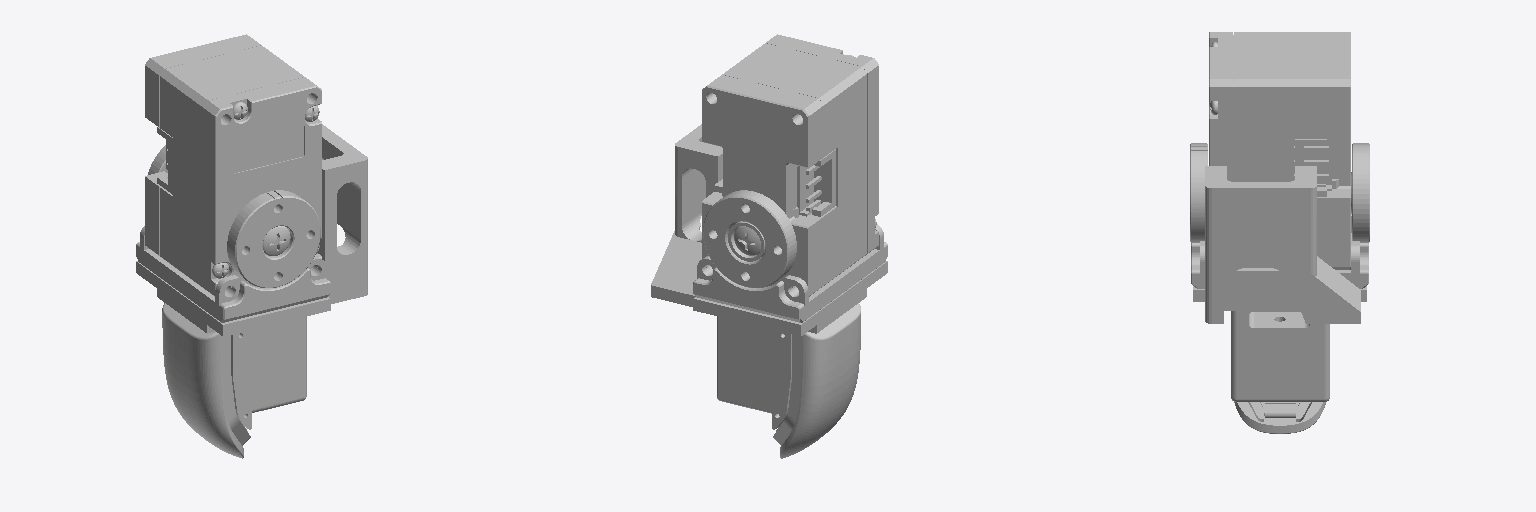
Rendered from thumb_fingertip_paxini.obj.
The picture shows the model from 3 angles: view 1: azimuth 30°, elevation 25°; view 2: azimuth 150°, elevation 25°; view 3: azimuth 270°, elevation 25°; orthographic projection.
Visible parts, largest first — view 1: thumb_new_zhijian; view 2: thumb_new_zhijian; view 3: thumb_new_zhijian.
Boxes of the visible parts, box(x1,y1,x2,y2) form: thumb_new_zhijian: box(136, 34, 367, 458); thumb_new_zhijian: box(651, 34, 887, 458); thumb_new_zhijian: box(1190, 32, 1369, 433).
Bounding box in the file's own units: 0.0286 × 0.0674 × 0.029.